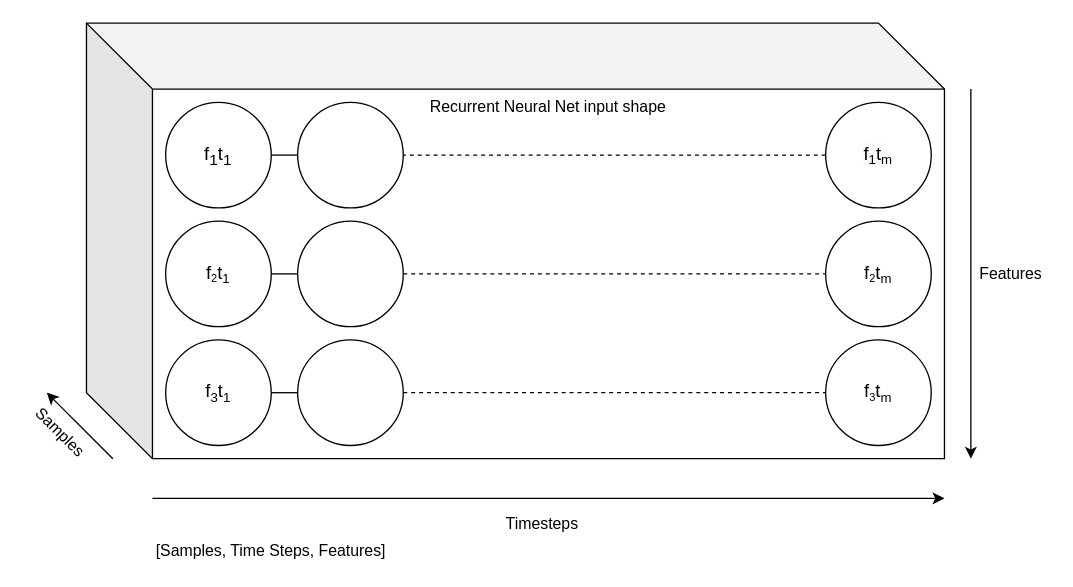
Some shapes in this 1073 by 587 pixel diagram are drawn without their labels. Here are the shapes that lost their labels. From the top down, the centre of each, then its label:
At pixel 349 154: "f 1 t 2".
At pixel 349 273: "f 2 t 2".
At pixel 349 392: "f 3 t 2".
